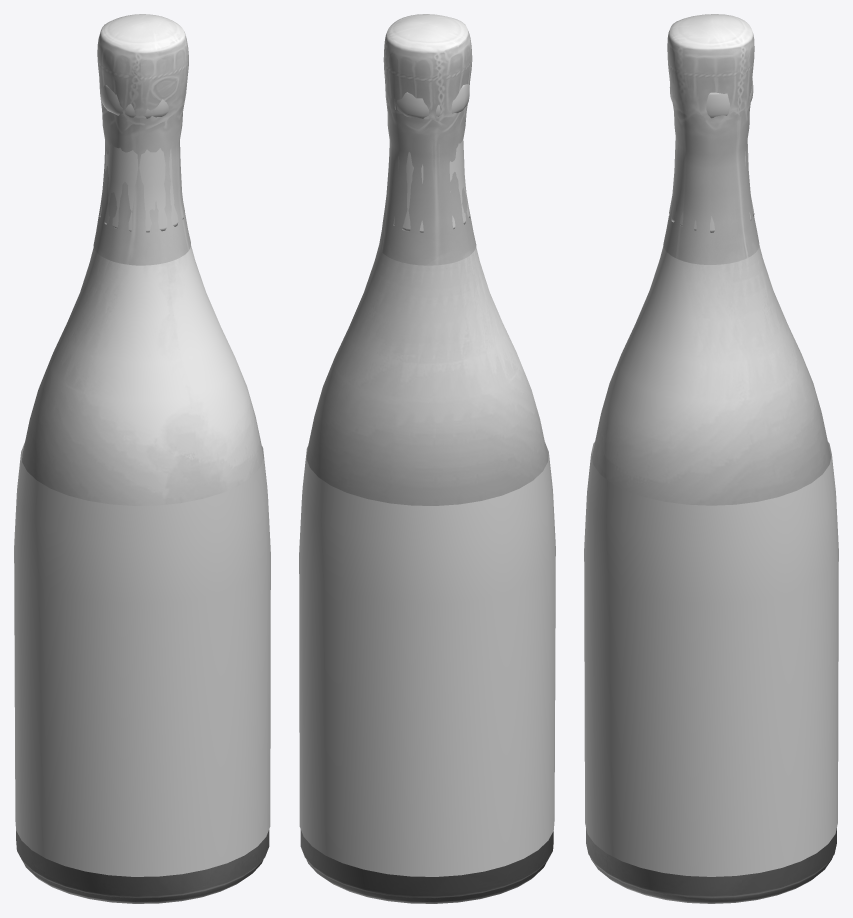
File: JEROBOAM_306_CCH.glb
3 renders of one model, left to right at view 1: azimuth 30°, elevation 25°; view 2: azimuth 150°, elevation 25°; view 3: azimuth 270°, elevation 25°, orthographic.
Visible parts, largest first — view 1: label, bottiglia, champagneAluminium, longWax; view 2: label, bottiglia, champagneAluminium, longWax; view 3: label, bottiglia, champagneAluminium, longWax.
Boxes of the visible parts, left/top/right/bottom form: label: left=14, top=442, right=270, bottom=876; bottiglia: left=16, top=246, right=269, bottom=903; champagneAluminium: left=93, top=14, right=190, bottom=265; longWax: left=99, top=85, right=184, bottom=232; label: left=299, top=442, right=555, bottom=876; bottiglia: left=300, top=245, right=553, bottom=903; champagneAluminium: left=379, top=14, right=476, bottom=265; longWax: left=393, top=84, right=469, bottom=232; label: left=584, top=442, right=838, bottom=876; bottiglia: left=586, top=245, right=836, bottom=903; champagneAluminium: left=663, top=14, right=759, bottom=264; longWax: left=669, top=78, right=754, bottom=232.
Bounding box in the file's own units: 0.1388 × 0.4941 × 0.1372.
Materials: 7 (3 with a texture image).
